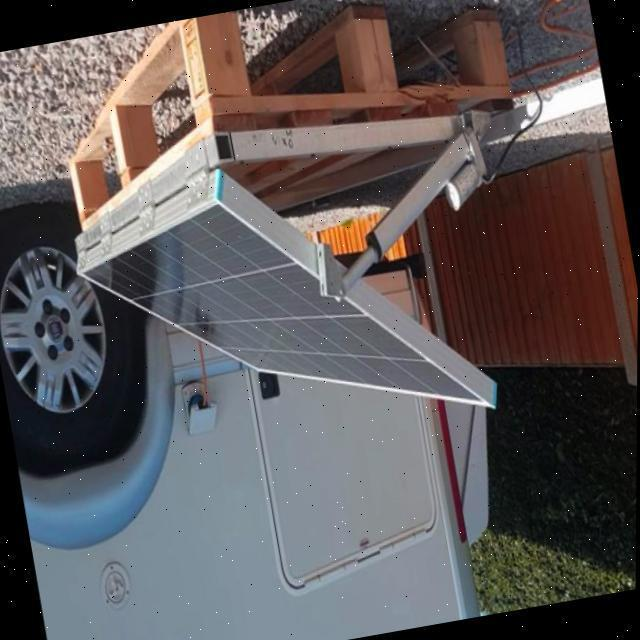Normal Solar Panel: (66, 156, 493, 470)
